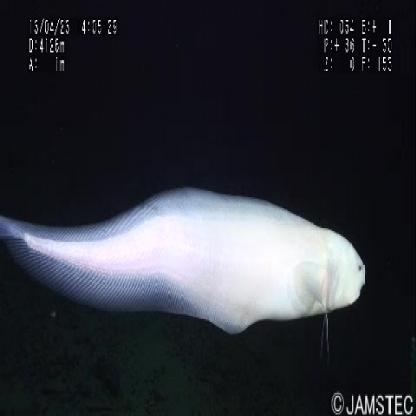Bio: (1, 186, 366, 342)
